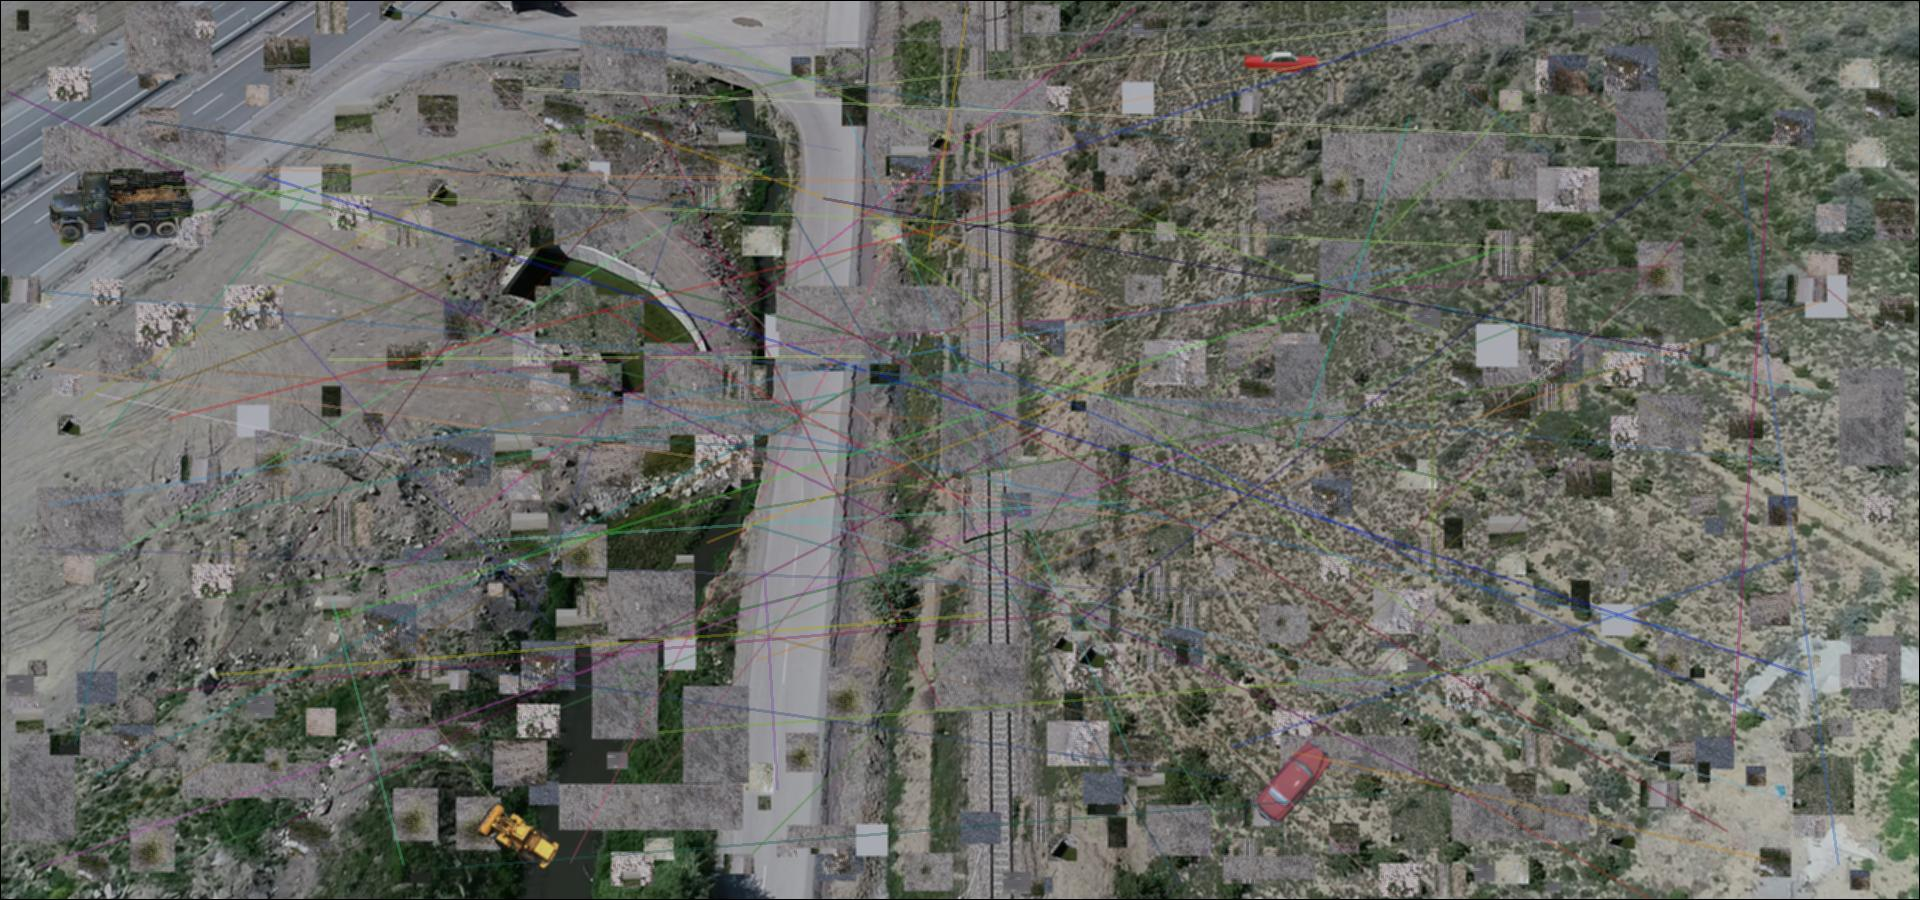arac: (49, 167, 195, 246), (1254, 740, 1333, 825), (474, 803, 564, 869), (1240, 49, 1322, 78)
